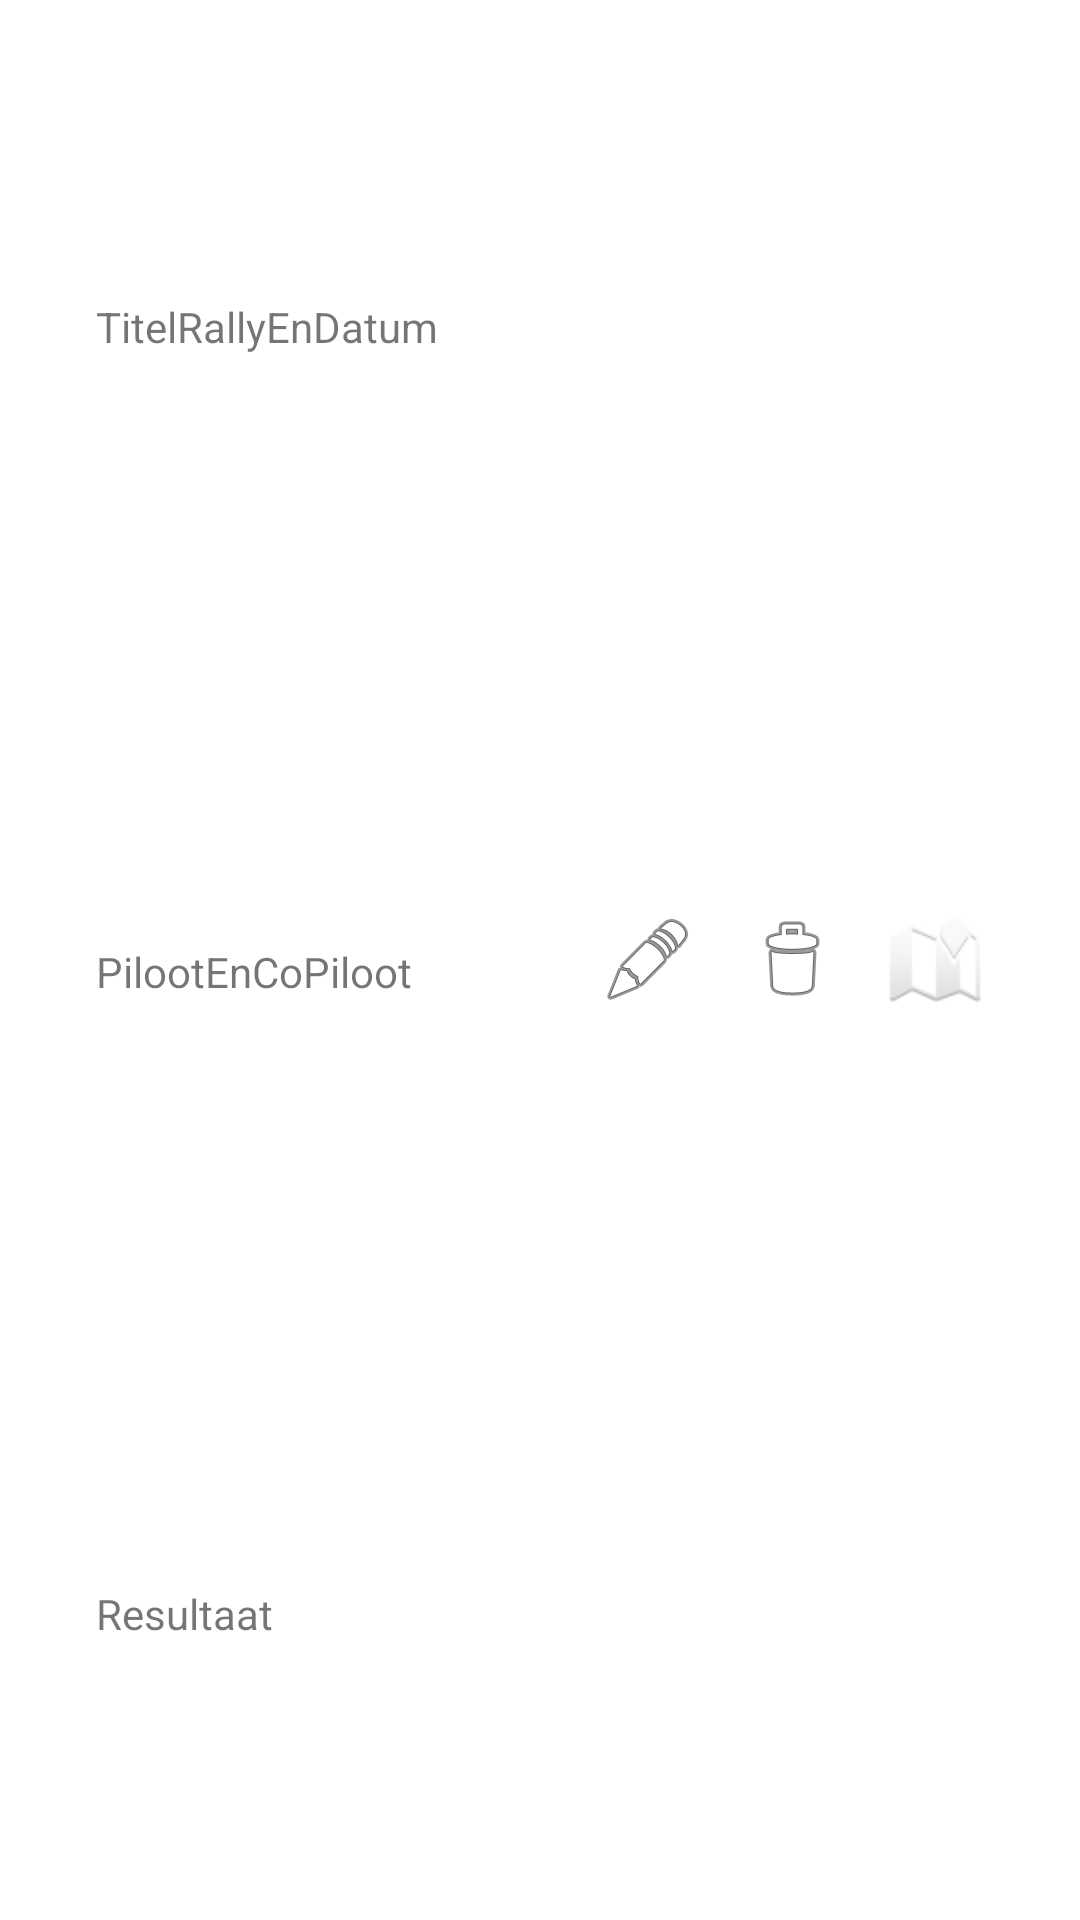

Icon click points for this 1080px x 1920px phone screenshot, format point (x, y):
delete: point (792, 958)
edit: point (647, 959)
map: point (935, 965)
